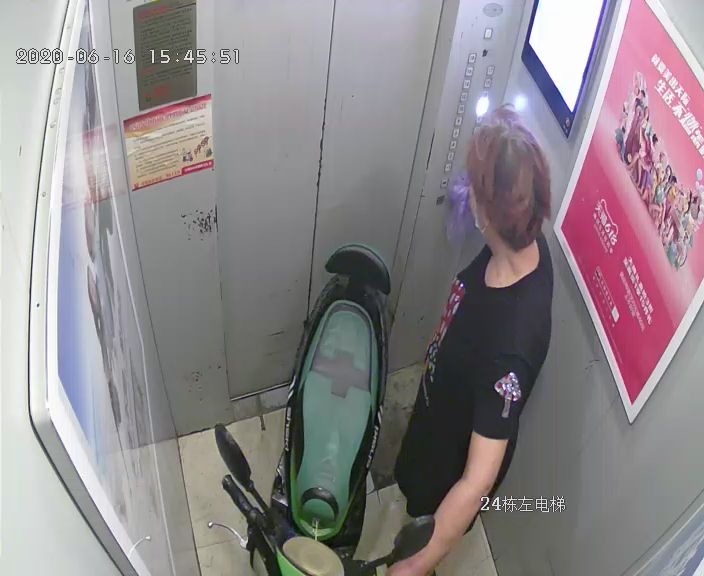Electric-bicycle: (207, 239, 394, 574)
